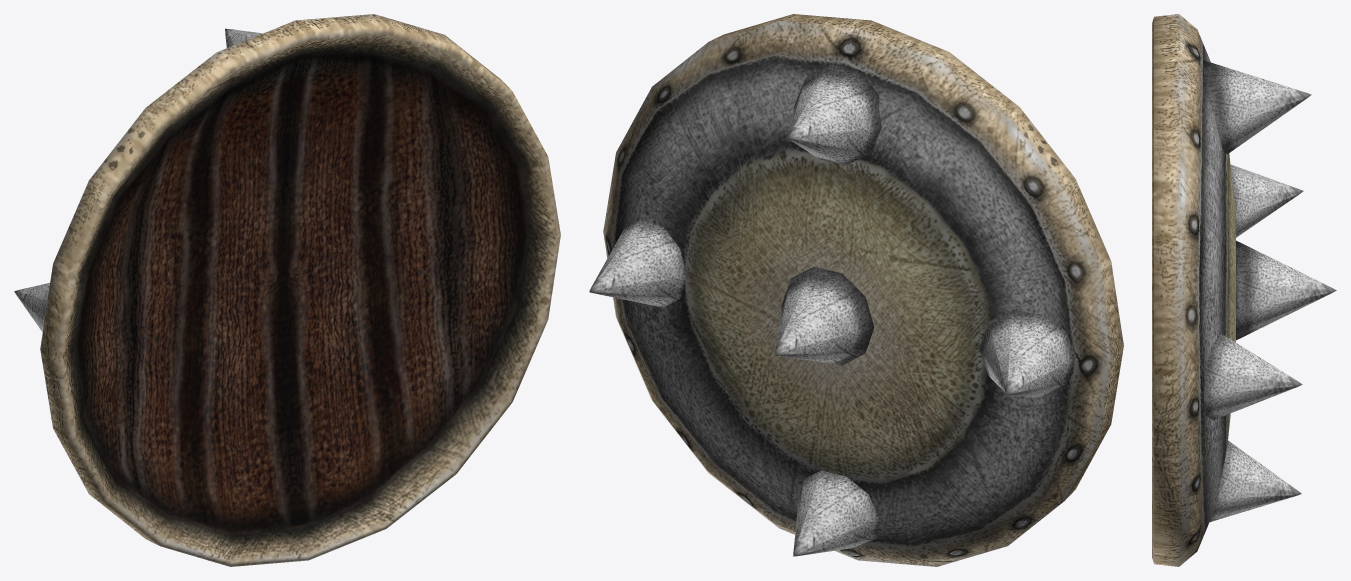
Rendered from BACK_CHIBI_ROUND_SHIELD.fbx.
The picture shows the model from 3 angles, left to right: view 1: azimuth 30°, elevation 25°; view 2: azimuth 150°, elevation 25°; view 3: azimuth 270°, elevation 25°; orthographic projection. The views are drawn at different scales.
Visible parts, largest first — view 1: BACK_CHIBI_ROUND_SHIELD; view 2: BACK_CHIBI_ROUND_SHIELD; view 3: BACK_CHIBI_ROUND_SHIELD.
Boxes of the visible parts, x1,y1,x2,y2 form: BACK_CHIBI_ROUND_SHIELD: [14, 14, 560, 566]; BACK_CHIBI_ROUND_SHIELD: [589, 14, 1123, 566]; BACK_CHIBI_ROUND_SHIELD: [1152, 14, 1336, 566].
Size of the model in its own units: 0.0466 by 0.0466 by 0.0155.
